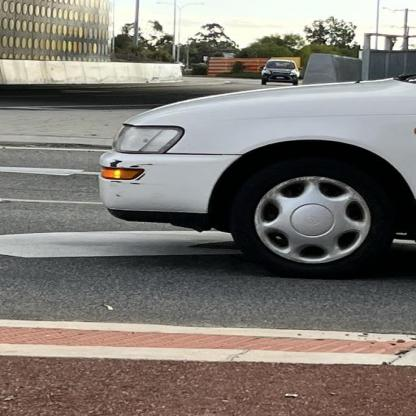Tire: (231, 155, 399, 278)
